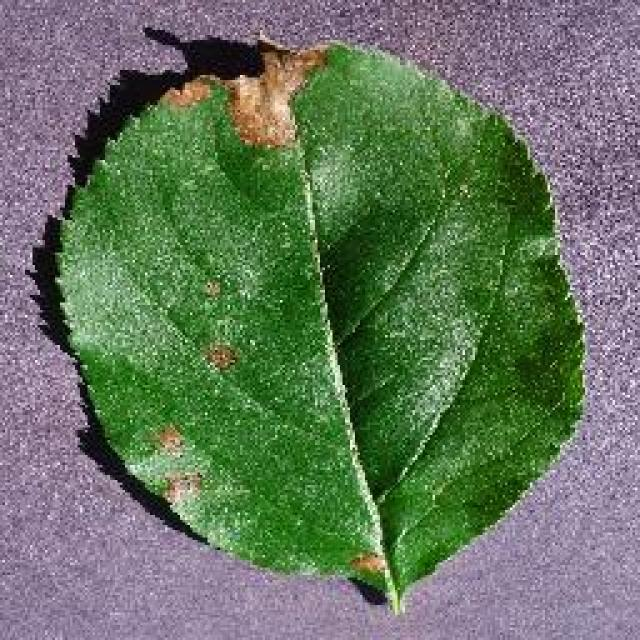apple black rot: (30, 22, 590, 612)
